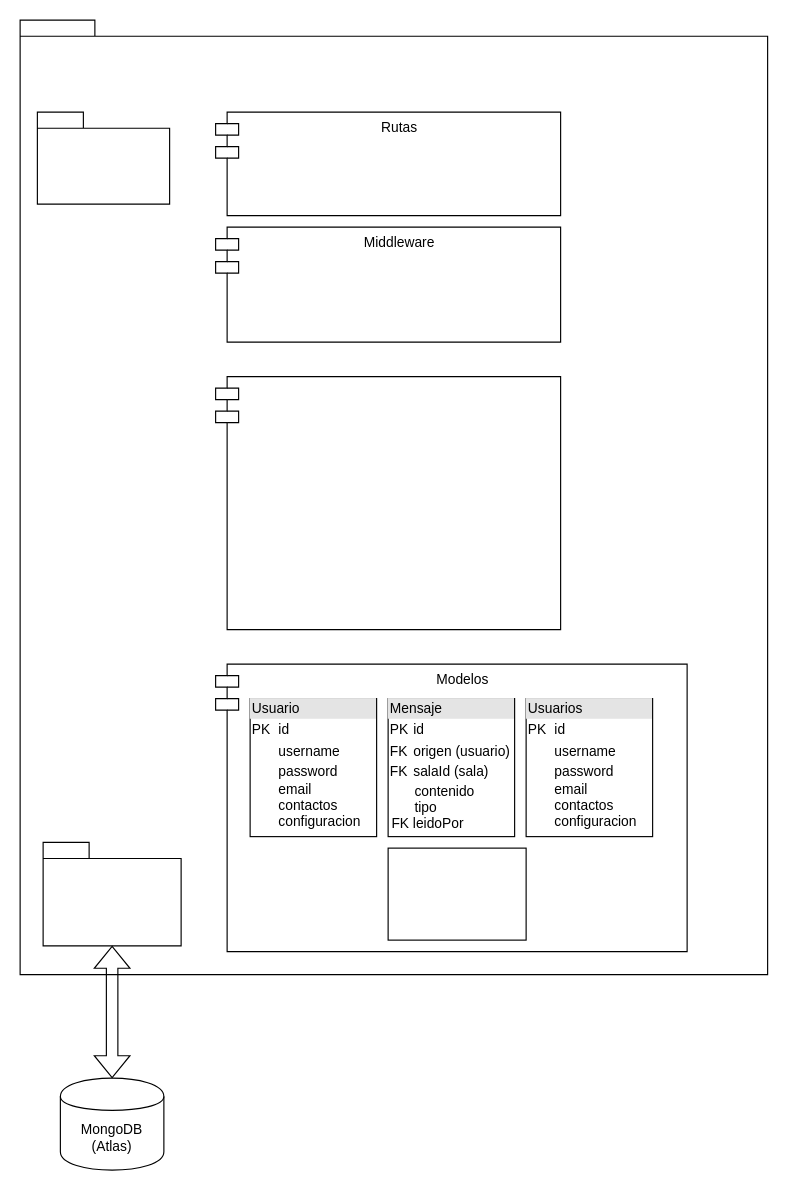
Image size: 788x1190. Some labels were removed from this diagram. Each missing label, with the centre of its shape:
"Axios" belongs at (x=103, y=157).
"Controladores" belongs at (x=387, y=502).
"LeidoPor LeidoPorUsuarioId readAt" belongs at (x=456, y=893).
"Mongoose" belongs at (x=111, y=893).
